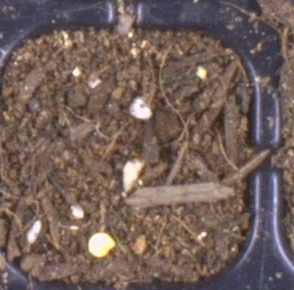chilli seed: (87, 232, 116, 259)
